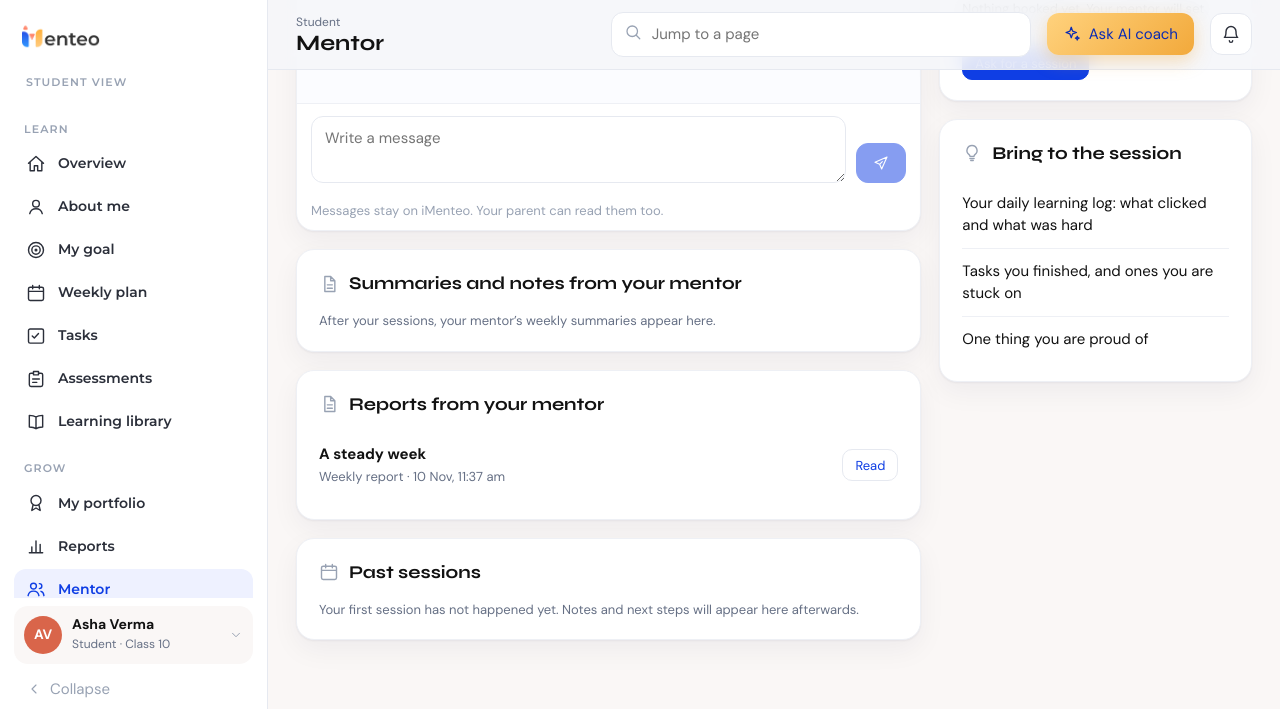
Scenario: student: what my mentor sees, and reports shared with them › lists reports the mentor shared, each claim with the facts it rests on
(page scrolled)
Click the button "Read". click: (870, 465)
box: [842,449,898,481]
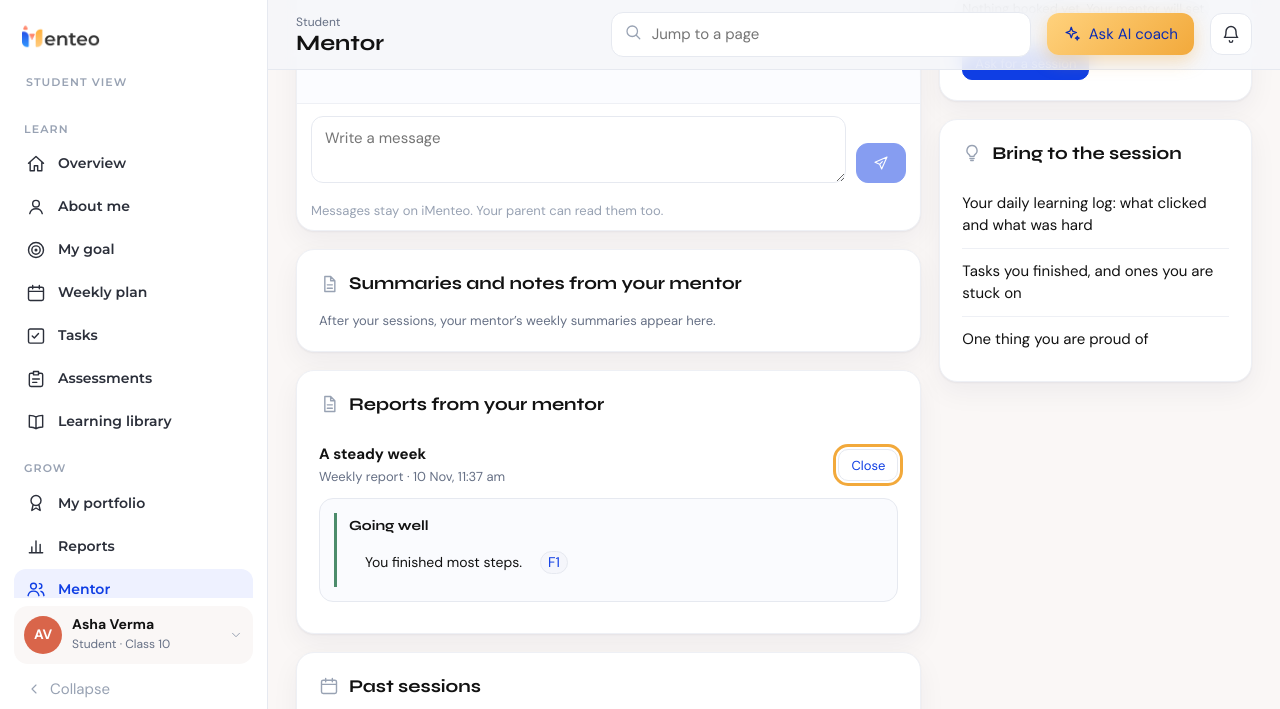
Expected: the text "You finished most steps." is shown, [365,552,522,573]
Click the button "F1". click: (554, 562)
box: [540,551,568,574]
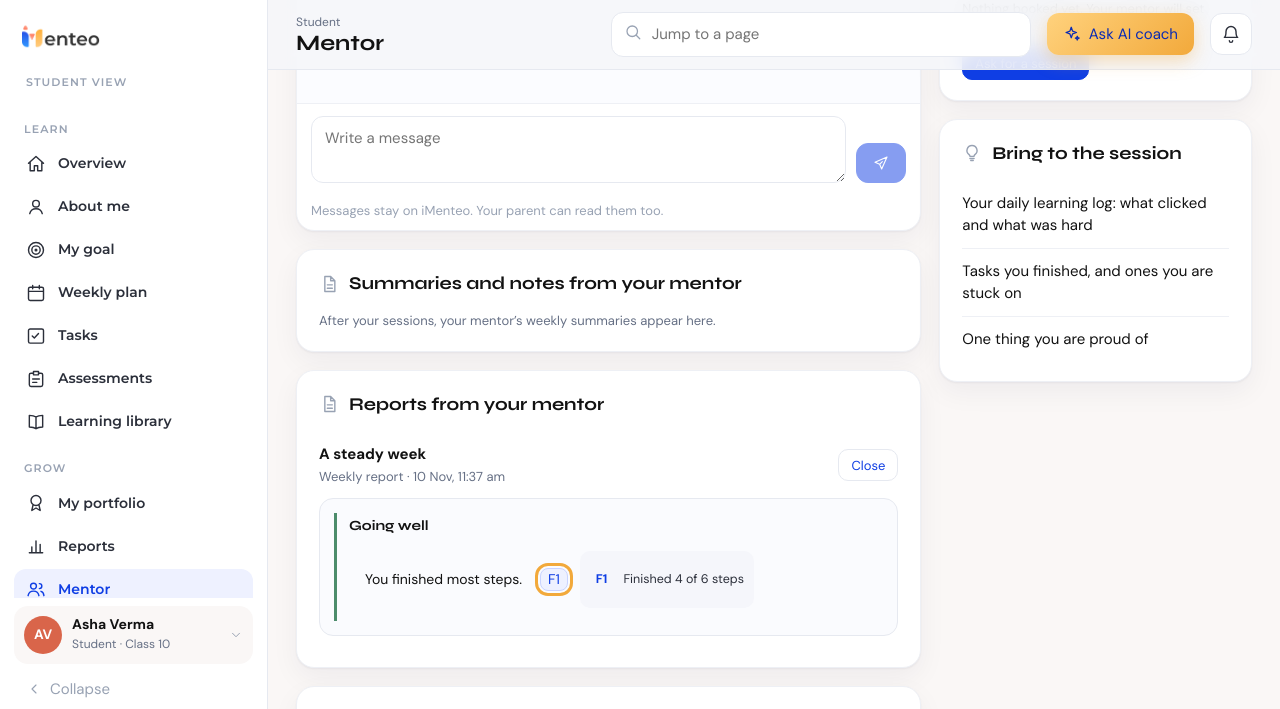
Expected: the list item "Finished 4 of 6 steps" is shown, [623,571,744,587]
